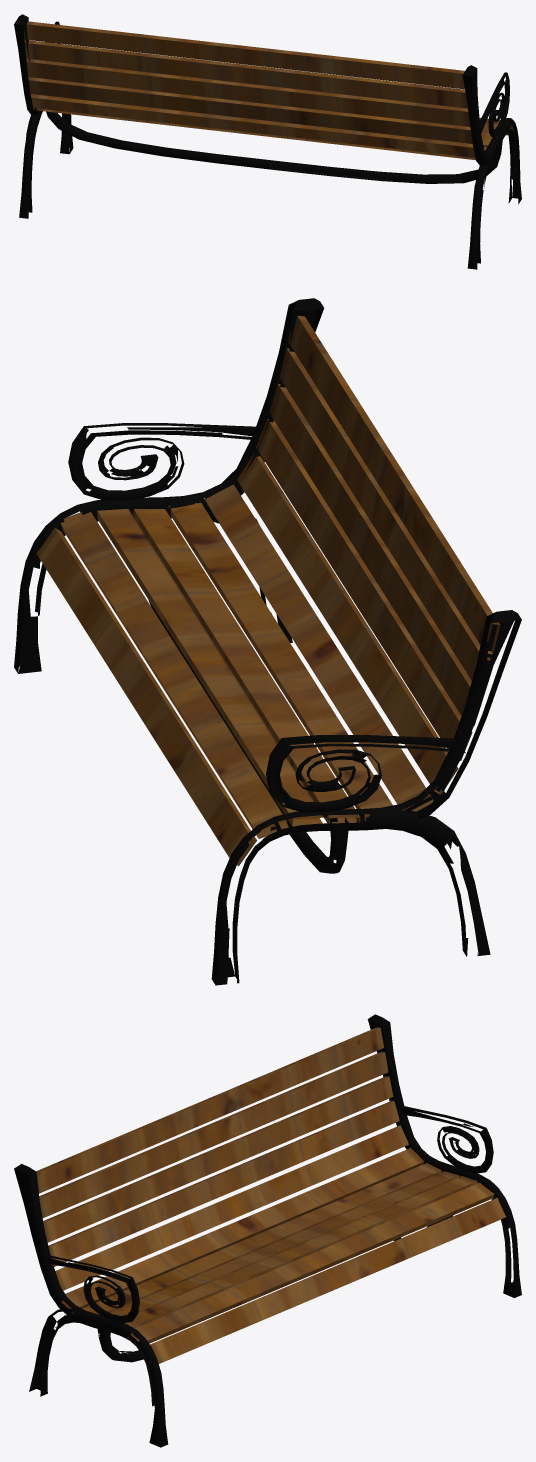
The model's file is prop_static_55865.fbx.
3 views of the same model, one above another, from view 1: azimuth 30°, elevation 25°; view 2: azimuth 150°, elevation 25°; view 3: azimuth 270°, elevation 25° (orthographic). The views are drawn at different scales.
Visible parts, largest first — view 1: prop_static_55865; view 2: prop_static_55865; view 3: prop_static_55865.
Boxes of the visible parts, x1,y1,x2,y2 form: prop_static_55865: (14,14,521,269); prop_static_55865: (14,298,521,985); prop_static_55865: (14,1014,521,1447).
Bounding box in the file's own units: 11455 × 5520 × 11455.
